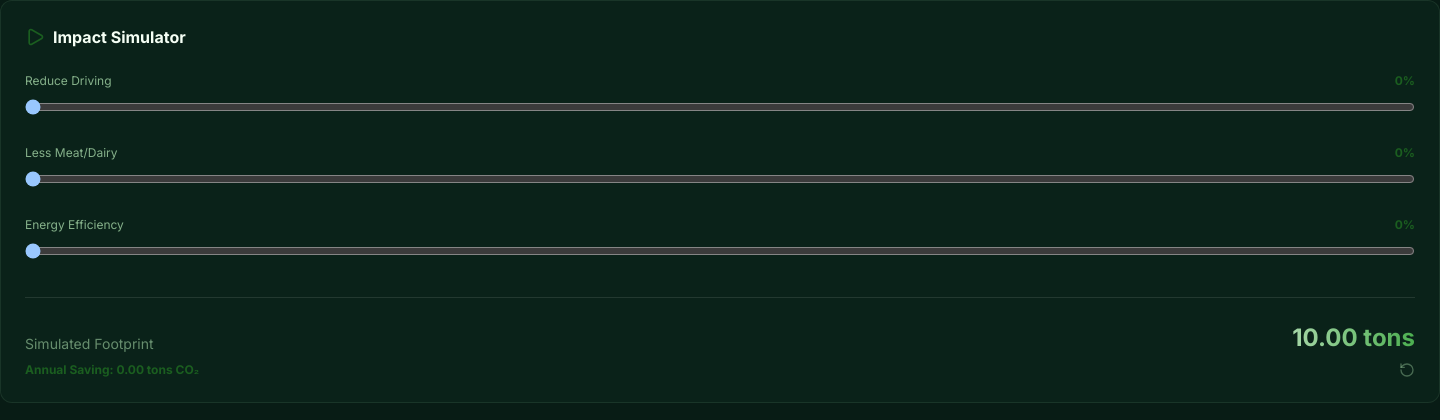
Scenario: CarbonSimulator Component › simulates reductions correctly
The image size is (1440, 420).
Expected: the text "10.00 tons" is shown, 1292,322 -> 1415,354
// Simulate 50% transport reduction
Set the slider below "Reduce Driving" to "50" at coordinates (720, 107), box 25,99 -> 1415,115
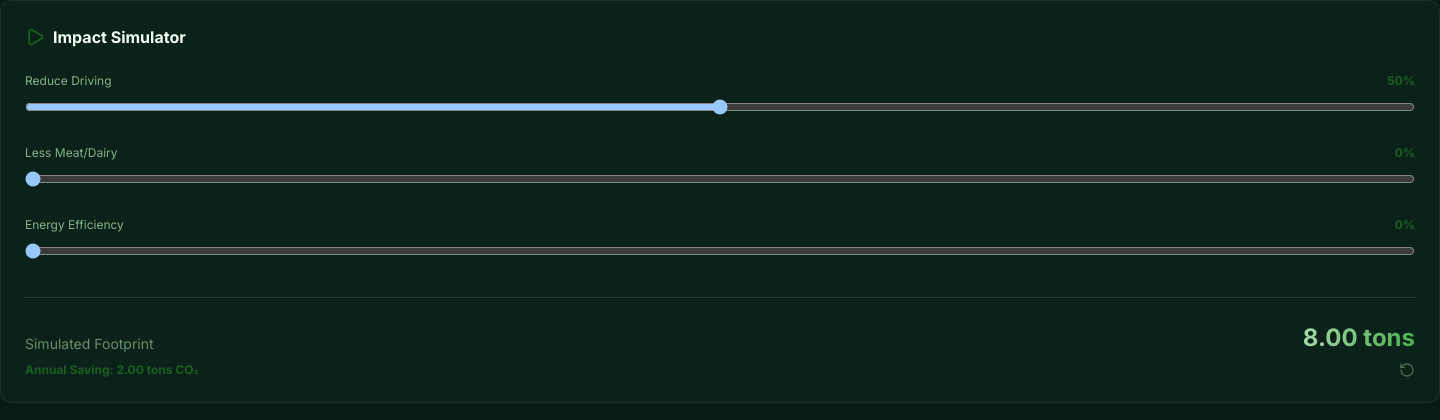
Expected: the text "8.00 tons" is shown, 1303,322 -> 1415,354
Expected: the text "Annual Saving: 2.00 tons CO₂" is shown, 25,362 -> 199,378
